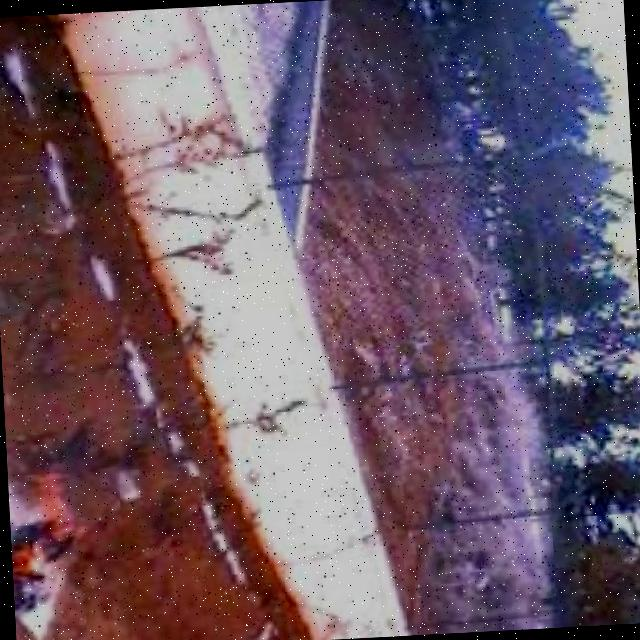fire: (7, 460, 103, 615)
